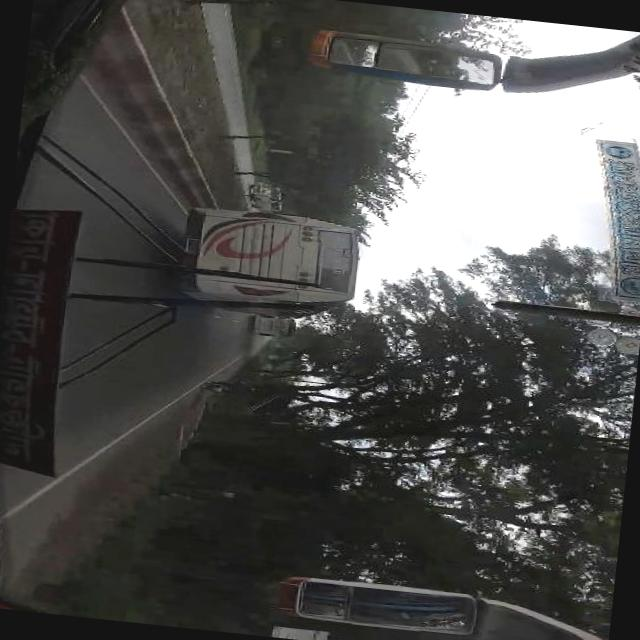bus: (172, 206, 364, 328)
motorcycle: (206, 380, 254, 398)
truck: (248, 183, 284, 212)
